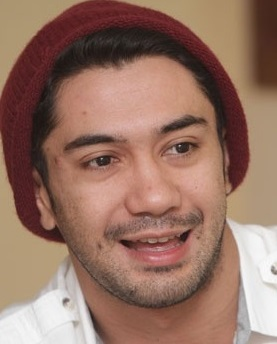bekas: (146, 185, 152, 190)
jerawat: (53, 156, 61, 167), (82, 109, 89, 115)
